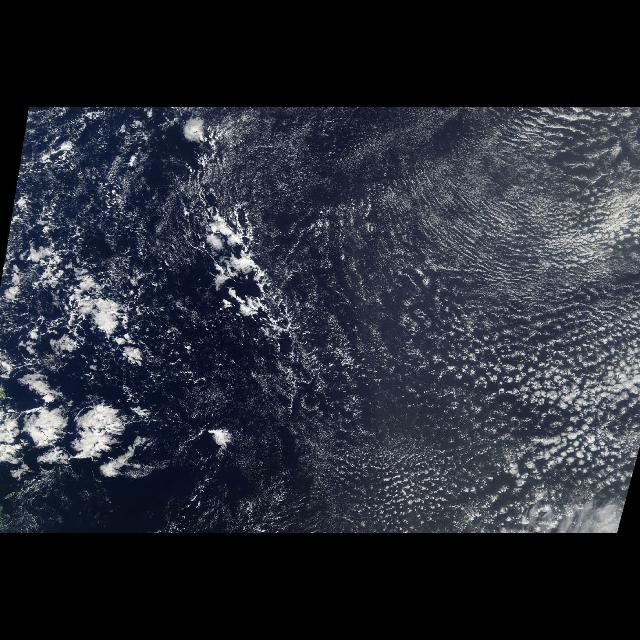Flower: (378, 296, 624, 488)
Gravel: (0, 108, 302, 488)
Sugar: (252, 107, 640, 497)
